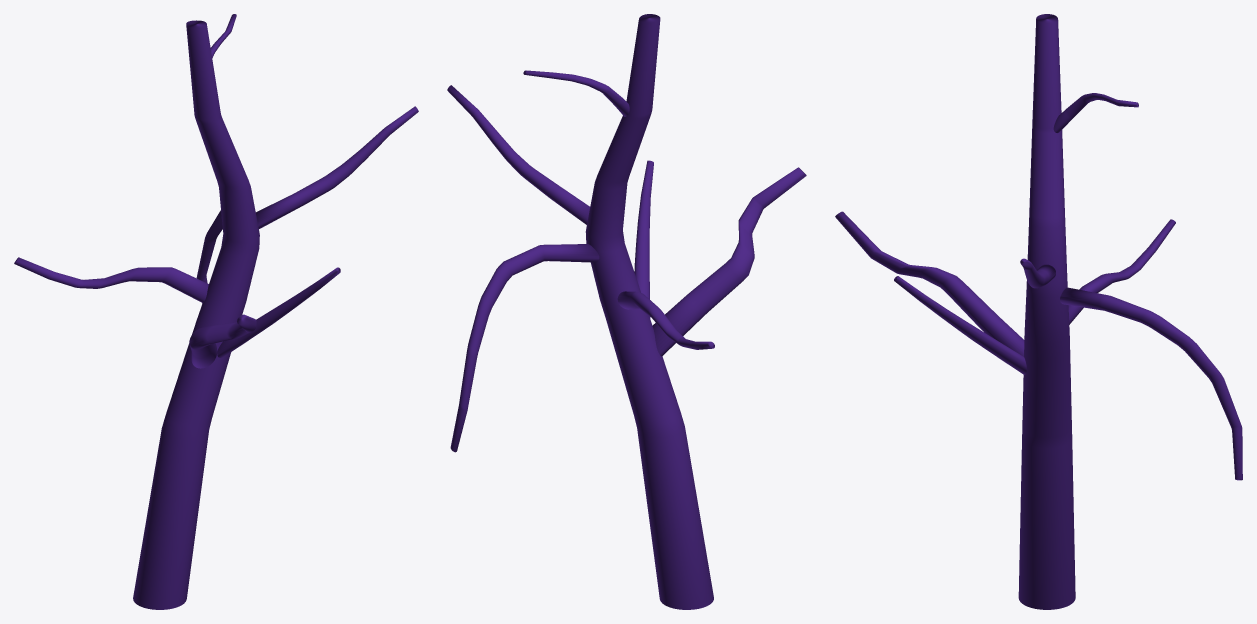
The model's file is Arbol_dead3.fbx.
The picture shows the model from 3 angles, left to right: view 1: azimuth 30°, elevation 25°; view 2: azimuth 150°, elevation 25°; view 3: azimuth 270°, elevation 25°; orthographic projection. The views are drawn at different scales.
Visible parts, largest first — view 1: Arbol_Dead; view 2: Arbol_Dead; view 3: Arbol_Dead.
Boxes of the visible parts, left/top/right/bottom form: Arbol_Dead: left=14, top=14, right=418, bottom=609; Arbol_Dead: left=447, top=14, right=806, bottom=609; Arbol_Dead: left=835, top=14, right=1242, bottom=609.
Size of the model in its own units: 206 by 333 by 206.
